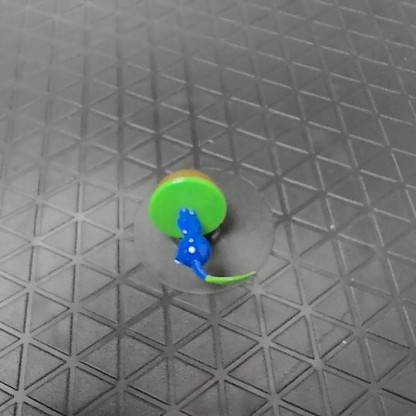leafairy: (144, 166, 260, 289)
